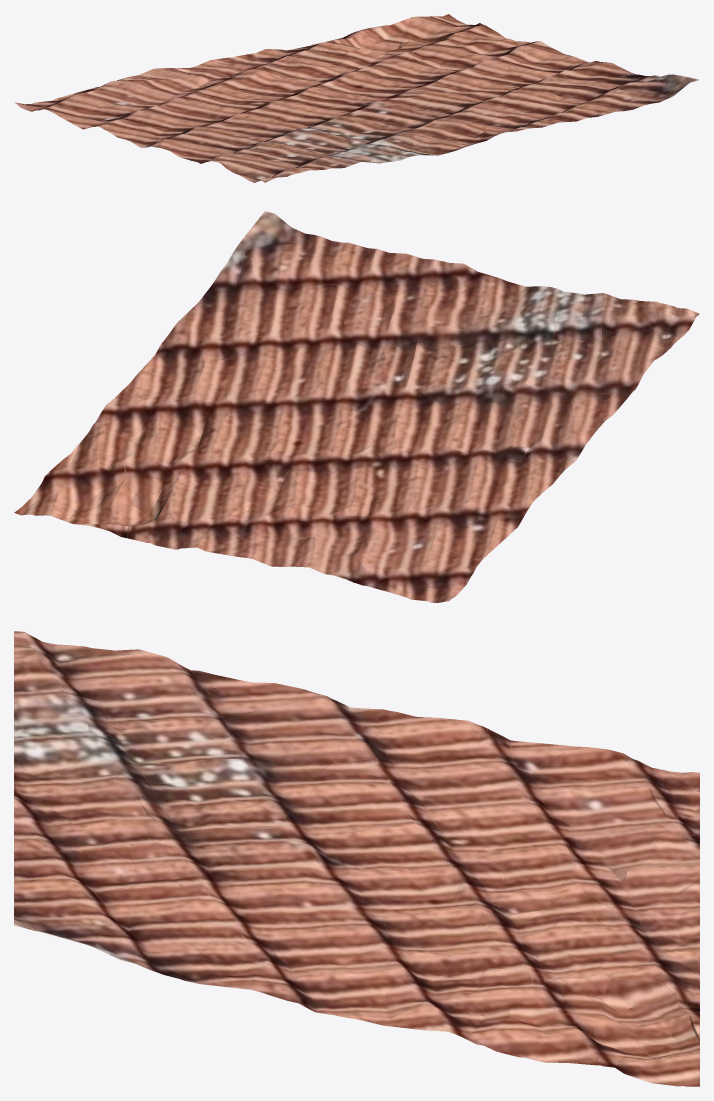
The picture shows the model from 3 angles, top to bottom: view 1: azimuth 30°, elevation 25°; view 2: azimuth 150°, elevation 25°; view 3: azimuth 270°, elevation 25°; orthographic projection. The views are drawn at different scales.
Size of the model in its own units: 1.67 by 0.4579 by 1.67.
2 materials, 2 textured.
